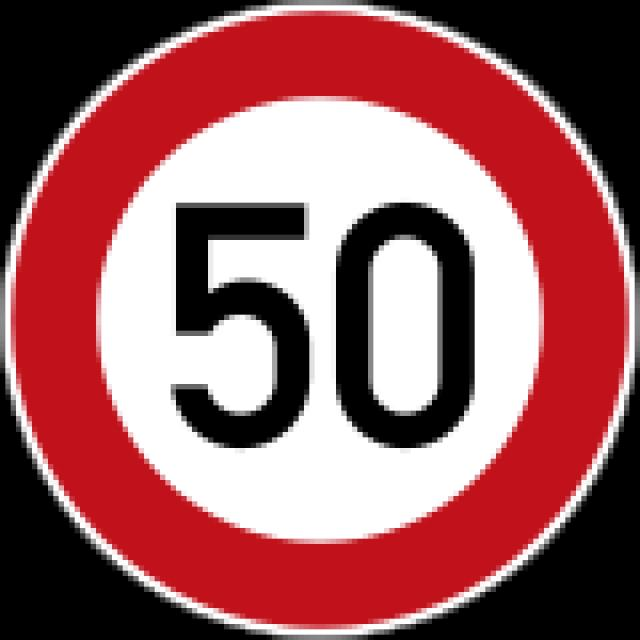Speed Limit -50-: (162, 187, 486, 457)
